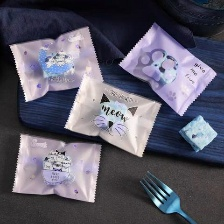snack: (112, 16, 220, 120), (60, 68, 166, 162), (3, 22, 107, 106), (6, 128, 106, 208)
